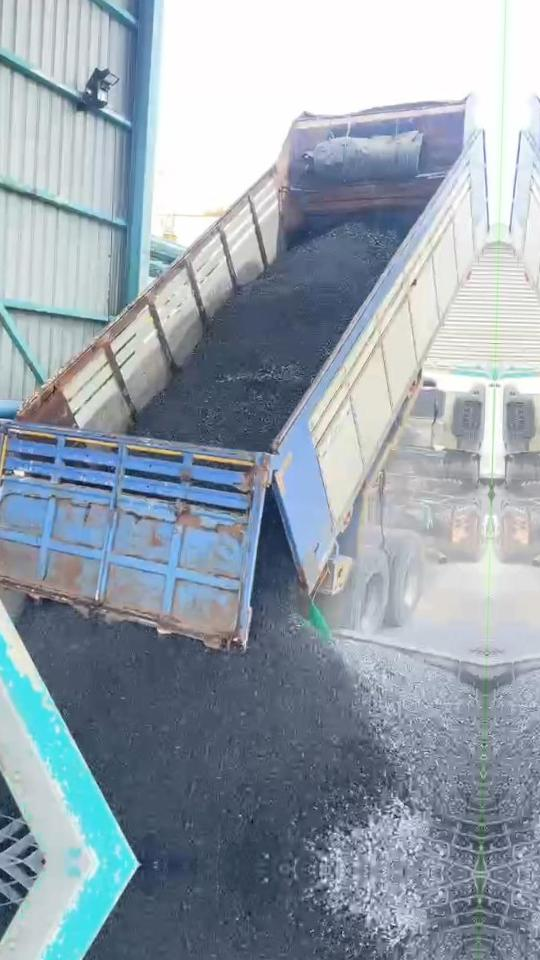gravel: (21, 502, 481, 872), (136, 217, 406, 449), (0, 743, 11, 810)
